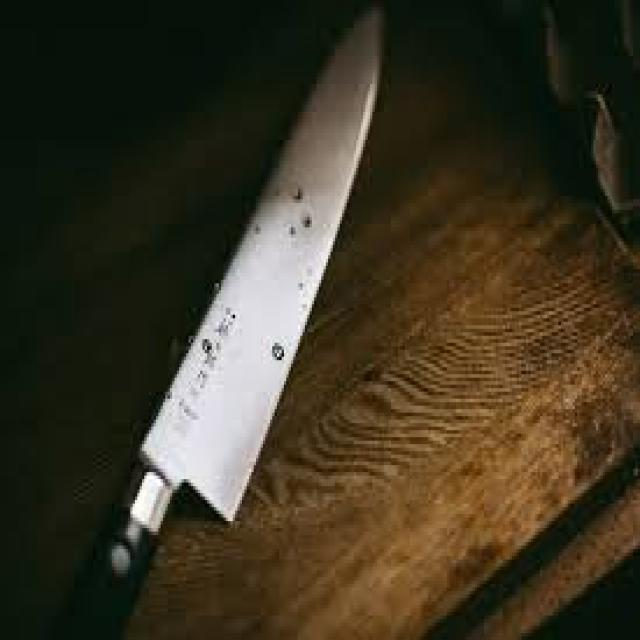knives: (111, 0, 429, 544)
